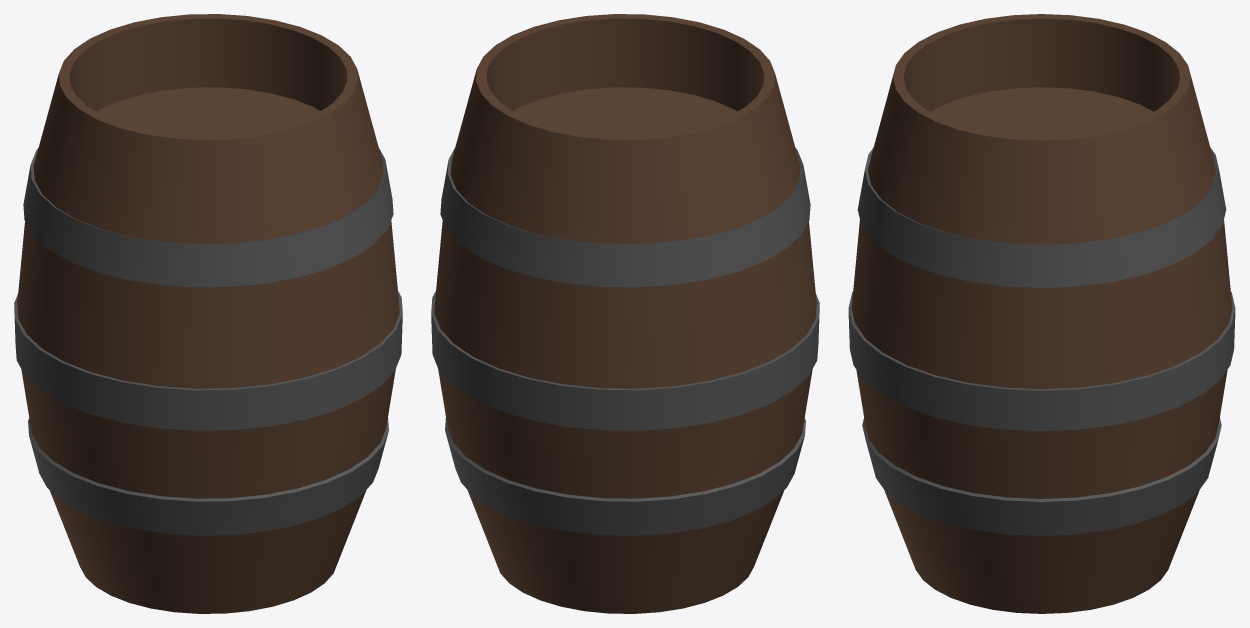
The model's file is Barile S 1 + Coin 2.fbx.
The picture shows the model from 3 angles, left to right: view 1: azimuth 30°, elevation 25°; view 2: azimuth 150°, elevation 25°; view 3: azimuth 270°, elevation 25°; orthographic projection.
Visible parts, largest first — view 1: T. Barrel 1; view 2: T. Barrel 1; view 3: T. Barrel 1.
Part boxes in pixels (box(x1,y1,x2,y2)): T. Barrel 1: box(14, 14, 402, 613); T. Barrel 1: box(431, 14, 819, 613); T. Barrel 1: box(848, 14, 1235, 613).
Size of the model in its own units: 87.66 by 120 by 87.05.
